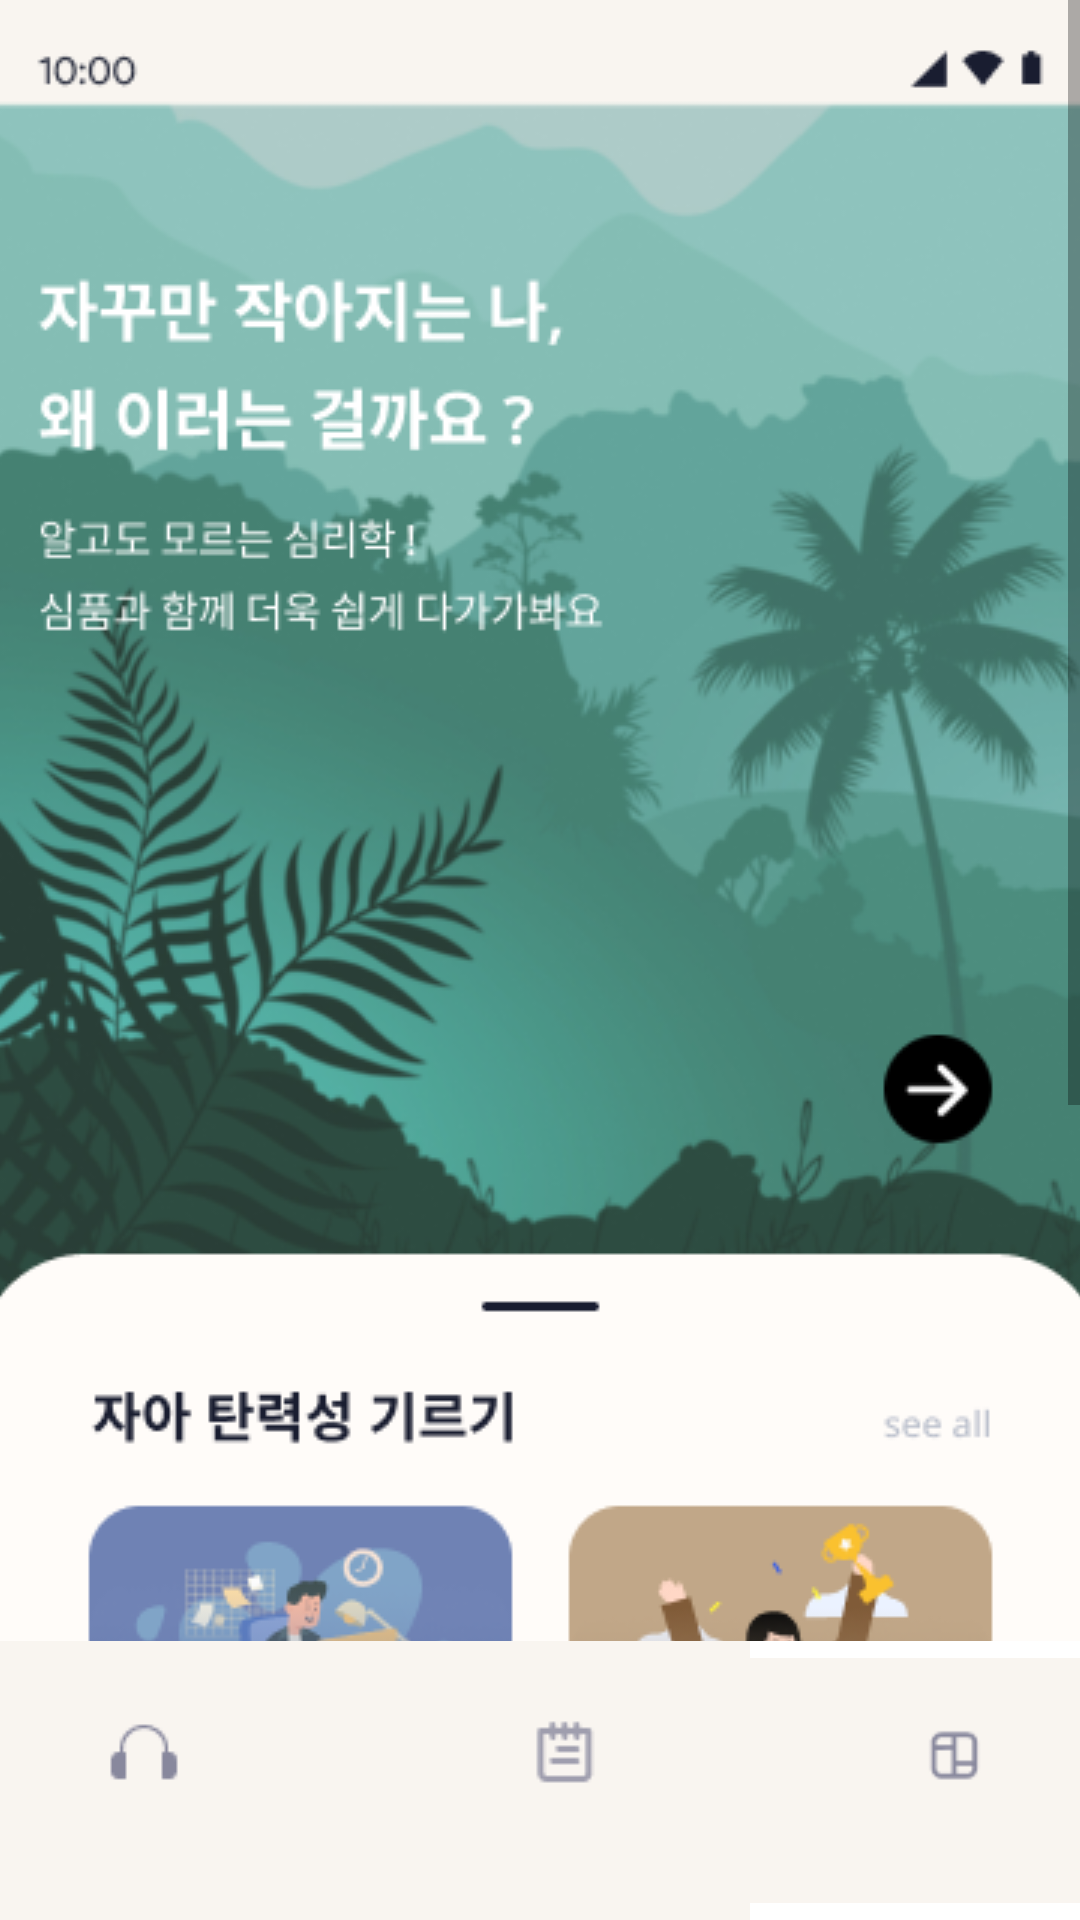

Icons on this 1080w x 1920h Android screen, each with its box as (x1=x1, y1=y1, x2=x2, y2=y2):
mediation deactive: (x1=110, y1=1724, x2=178, y2=1780)
record deactive: (x1=537, y1=1721, x2=592, y2=1783)
